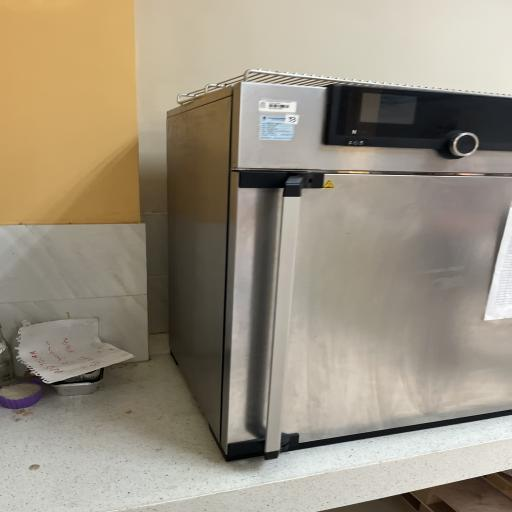Memmert_Unidad2: (156, 64, 512, 471)
